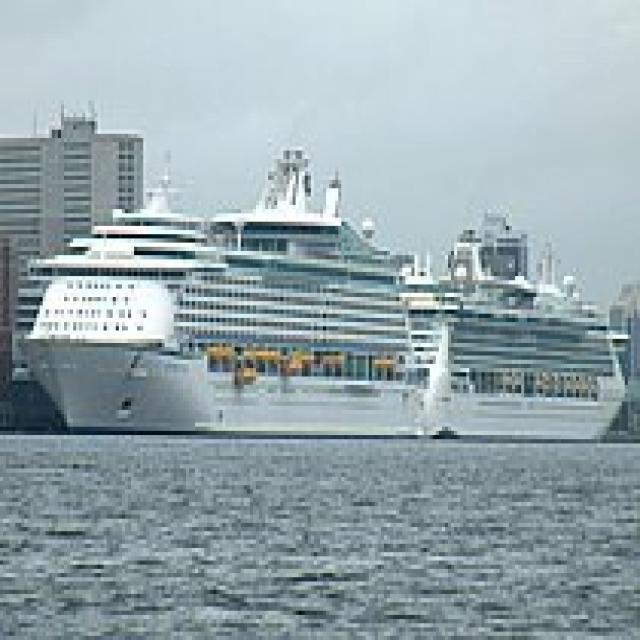Ship: (1, 139, 434, 445)
